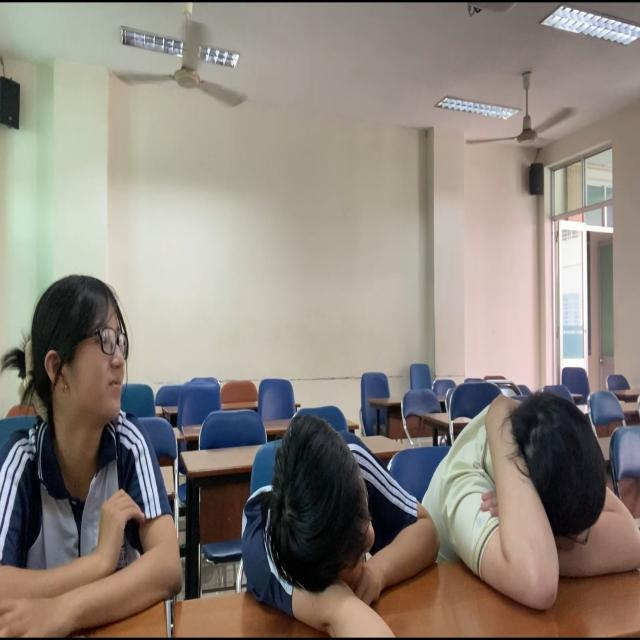sleep: (438, 383, 640, 640), (217, 408, 434, 627)
